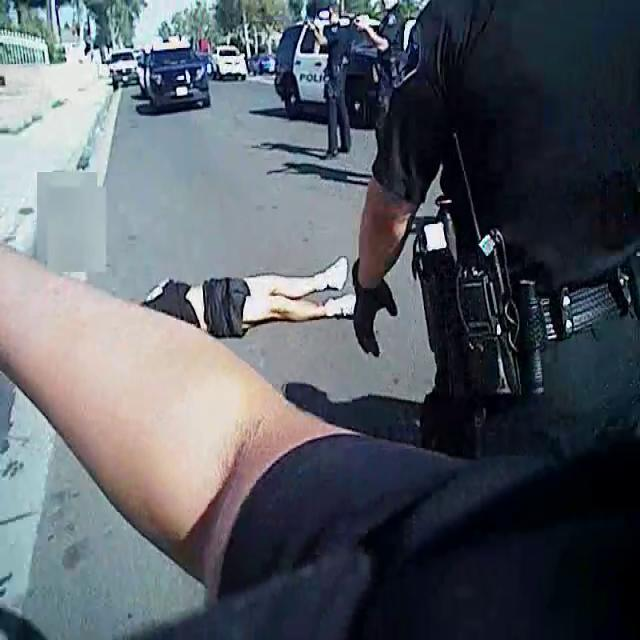gun: (301, 11, 322, 38), (348, 7, 366, 37)
